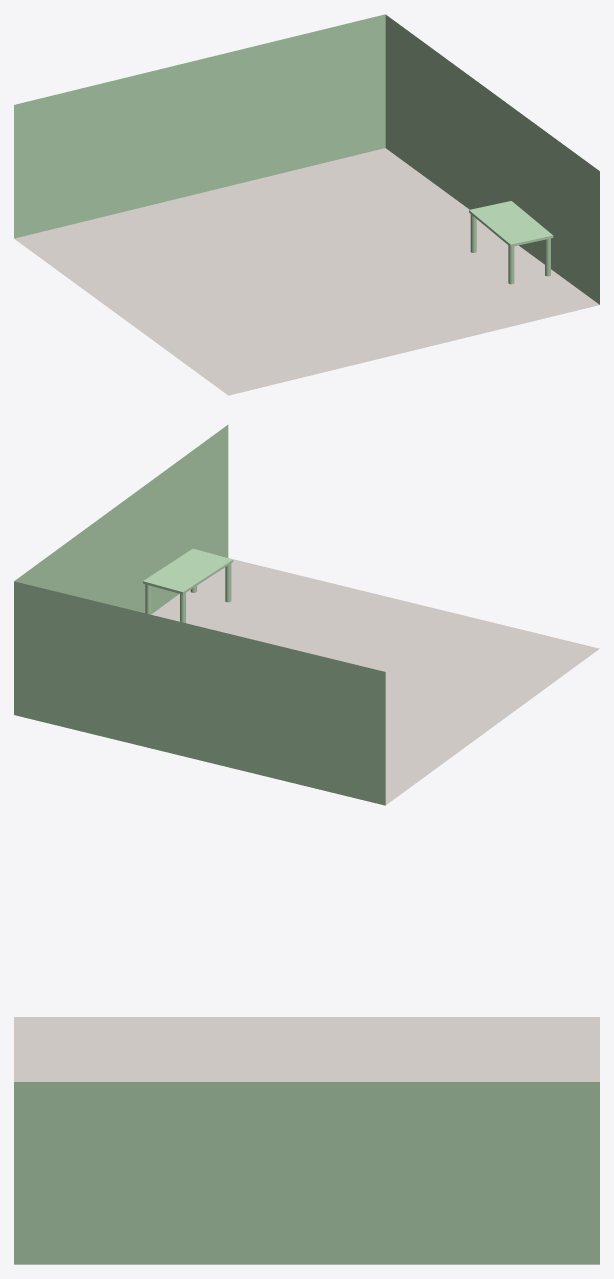
File: space.glb
The picture shows the model from 3 angles, top to bottom: view 1: azimuth 30°, elevation 25°; view 2: azimuth 150°, elevation 25°; view 3: azimuth 270°, elevation 25°; orthographic projection. The views are drawn at different scales.
Parts seen in each view (by area): view 1: 평면; view 2: 평면; view 3: 평면.
Boxes of the visible parts, x1,y1,x2,y2 form: 평면: [14, 14, 599, 395]; 평면: [14, 425, 599, 805]; 평면: [14, 1017, 599, 1264].
Bounding box in the file's own units: 12.83 × 4.41 × 12.83.
